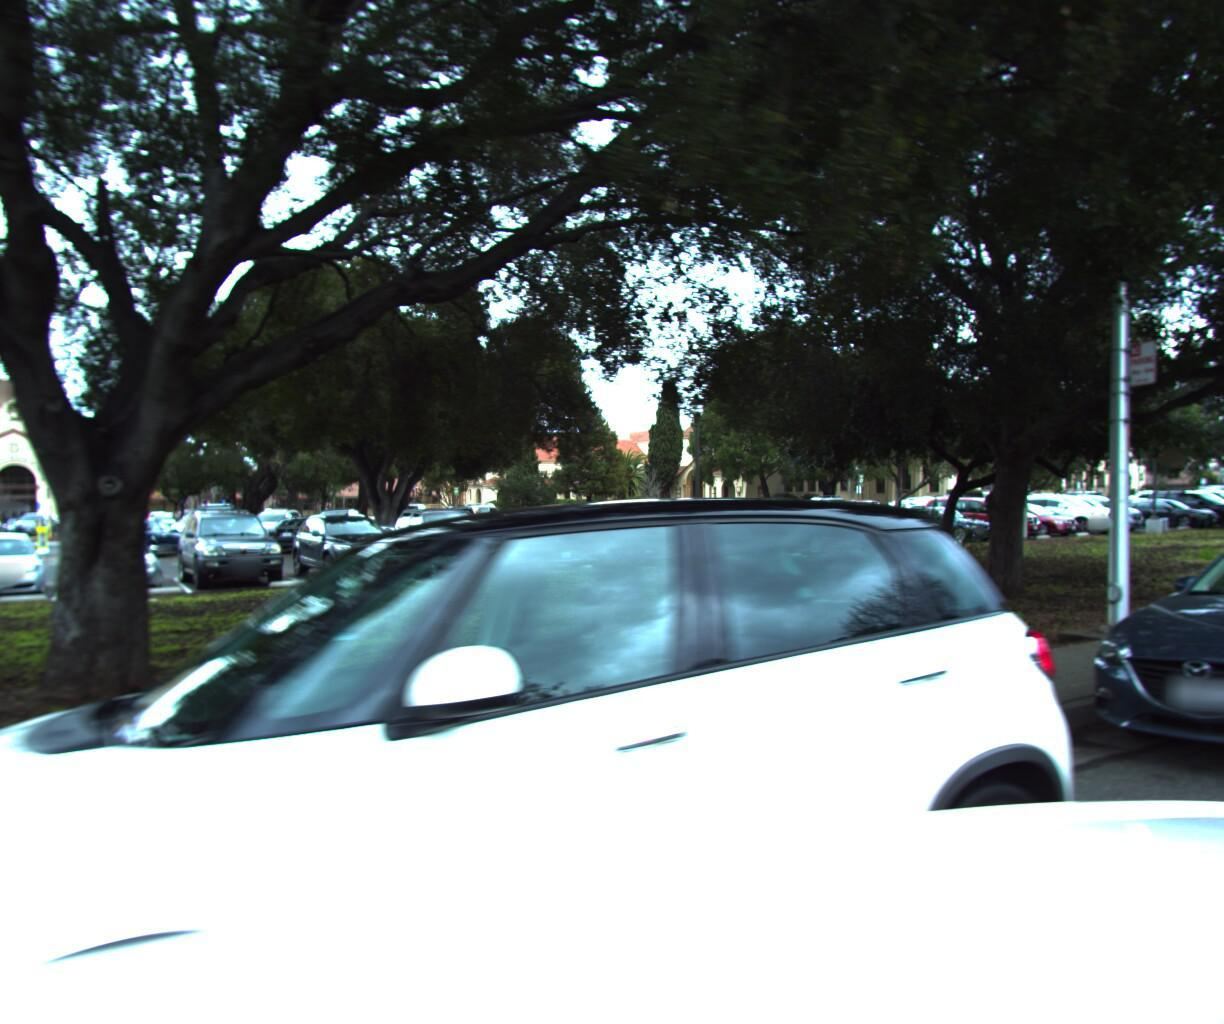car: (0, 484, 1131, 1024), (1039, 501, 1224, 817)
